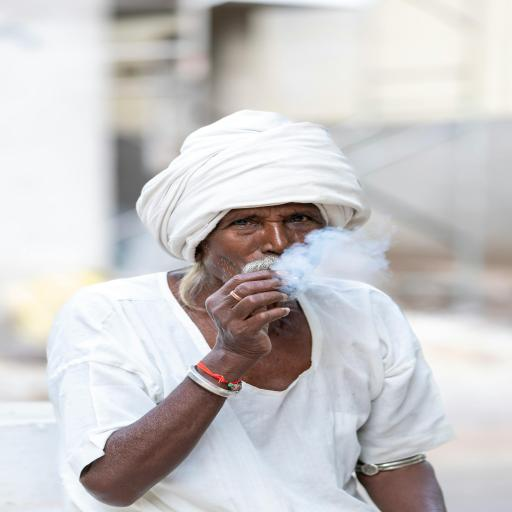asap rokok: (222, 196, 376, 325)
